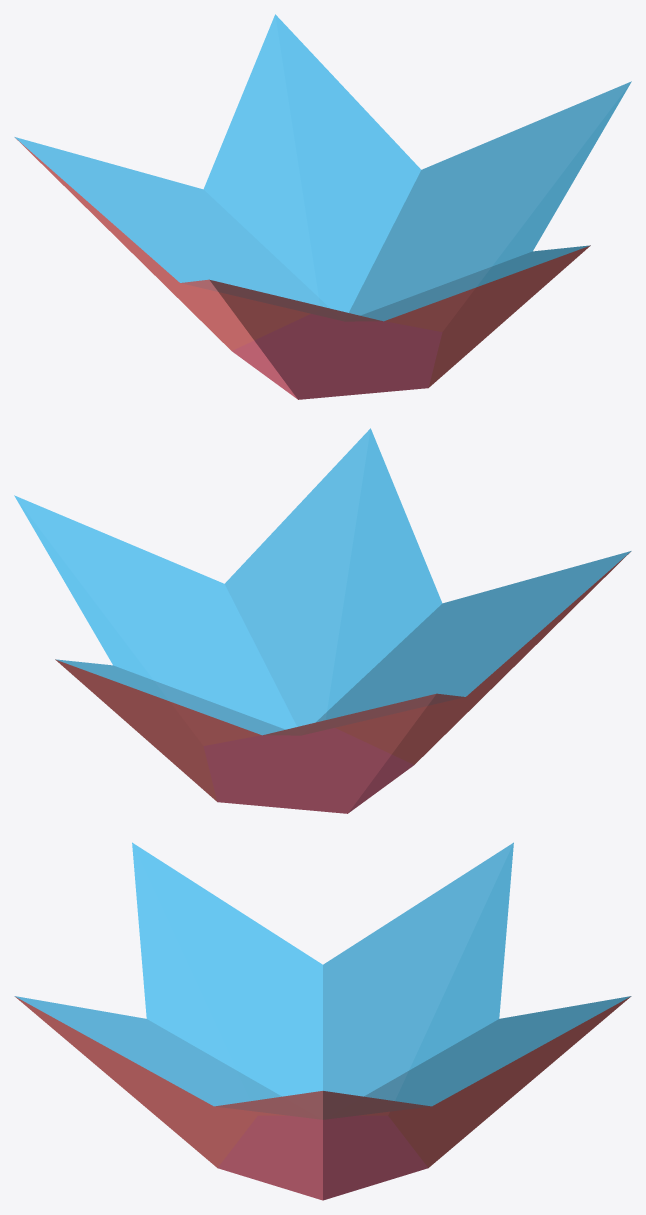
Rendered from pipa5pnc.obj.
The picture shows the model from 3 angles, top to bottom: view 1: azimuth 30°, elevation 25°; view 2: azimuth 150°, elevation 25°; view 3: azimuth 270°, elevation 25°; orthographic projection. The views are drawn at different scales.
Size of the model in its own units: 5.3 by 1.99 by 5.57.
